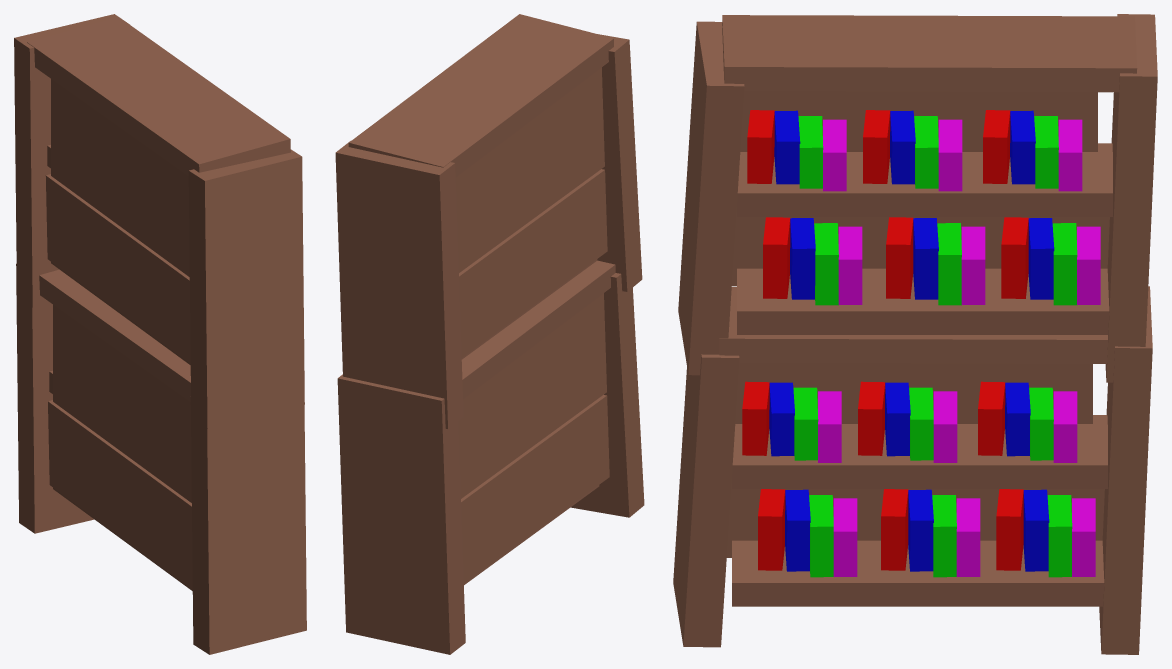
File: bookshelf.fbx
3 renders of one model, left to right at view 1: azimuth 30°, elevation 25°; view 2: azimuth 150°, elevation 25°; view 3: azimuth 270°, elevation 25°, orthographic. The views are drawn at different scales.
Parts seen in each view (by area): view 1: library2; view 2: library2; view 3: library2.
Part boxes in pixels (x1=…): library2: x1=14, y1=14, x2=306, y2=654; library2: x1=335, y1=14, x2=644, y2=654; library2: x1=673, y1=14, x2=1157, y2=654.
Size of the model in its own units: 6.85 by 29.61 by 22.12.
